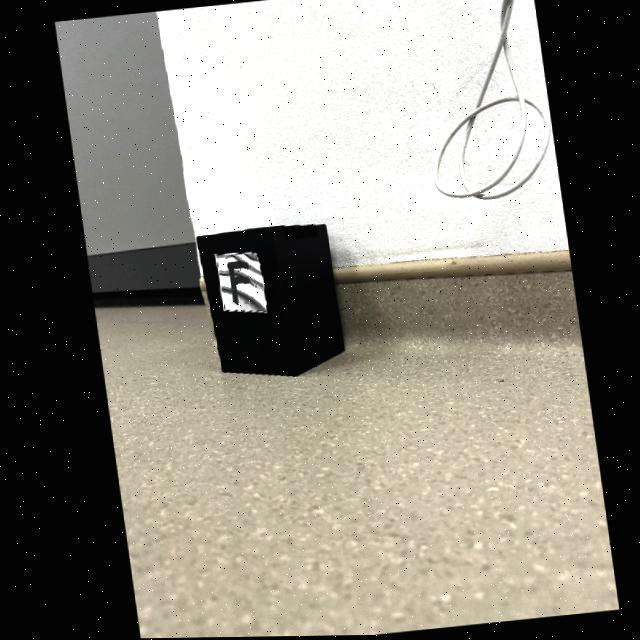F: (225, 261, 248, 304)
